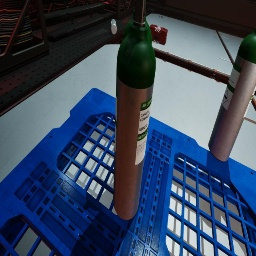0: (113, 0, 156, 220), (208, 27, 256, 162), (123, 9, 152, 45), (111, 19, 117, 35)
FirstAidBox ,: (150, 24, 168, 45)
